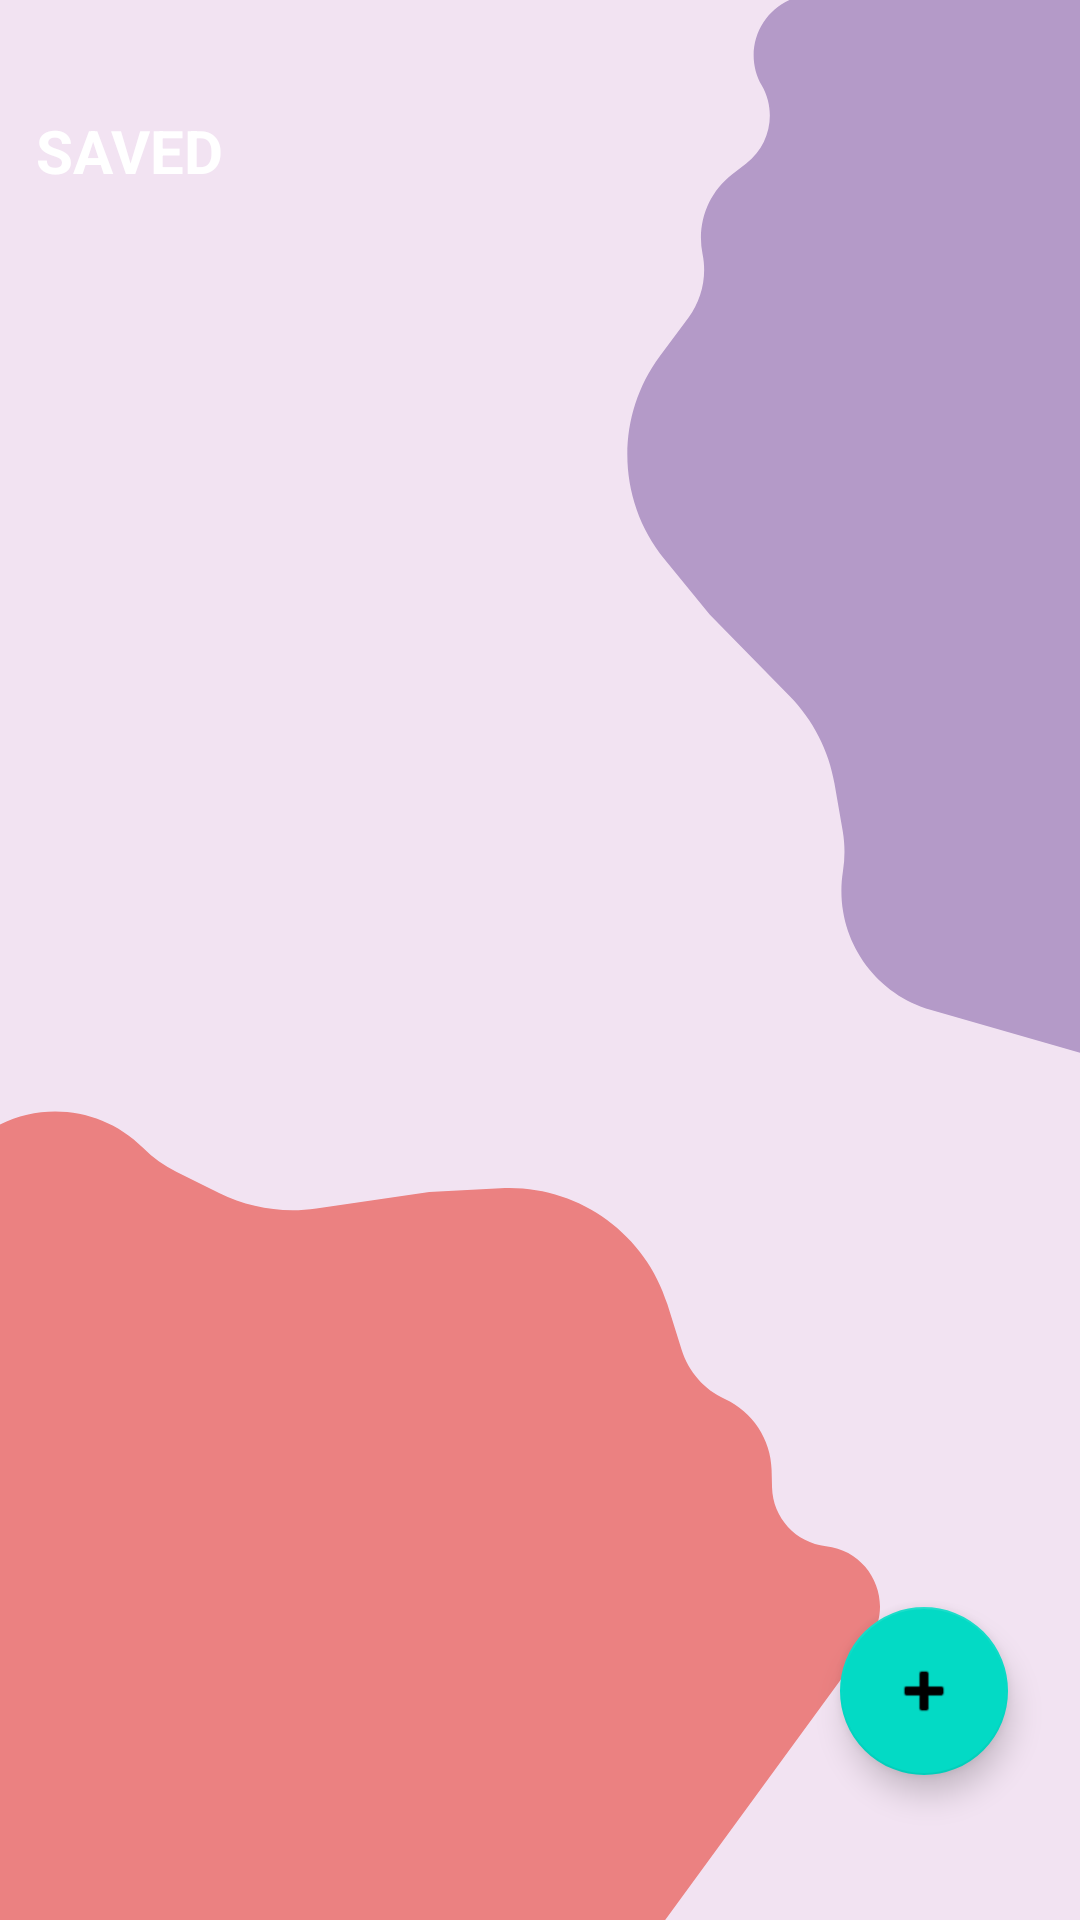

Named icons in this screenshot (1080x1920) and their bounding boxes, (x1, y1, x2, y2):
add: (840, 1607, 1008, 1775)
